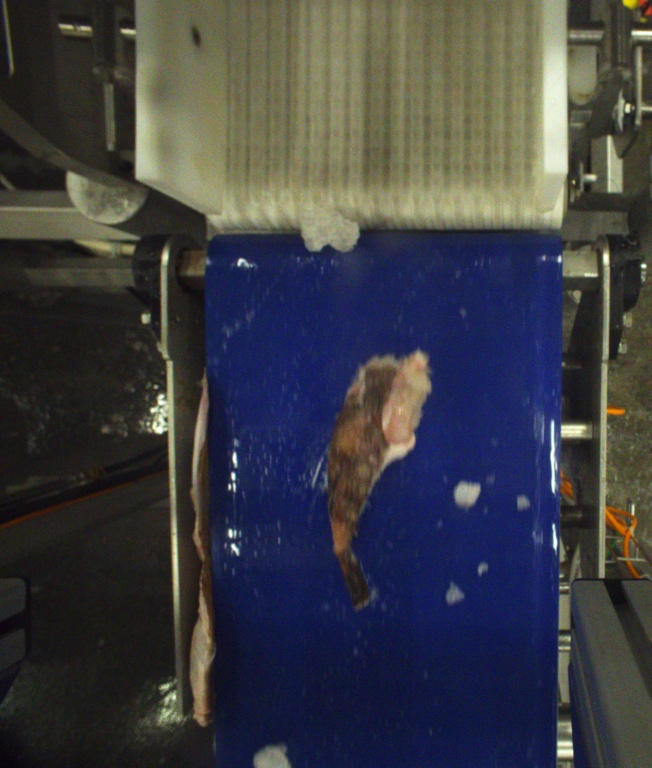ANF: (327, 349, 422, 605)
